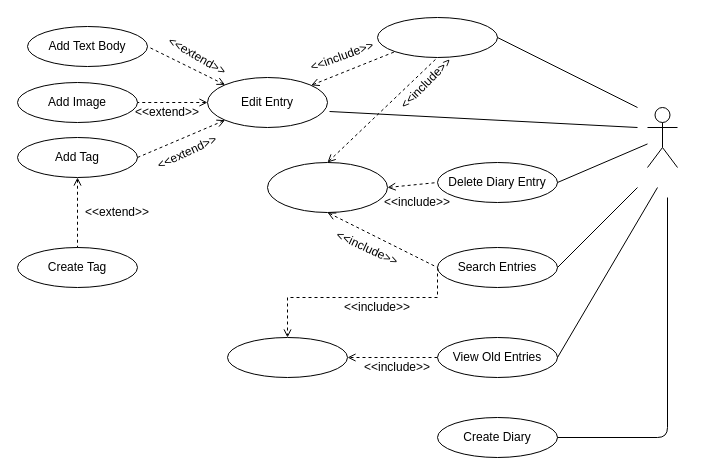
This 713x475 diagram has some shape labels left out. Each missing label, with the centre of its shape:
Create diary entry: [437,37]
Diary Author: [662,137]
Sort Entries: [287,357]
Update entry list: [327,187]
